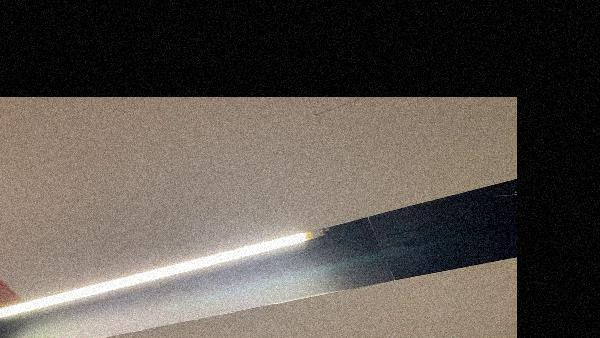light_on: (0, 225, 325, 332)
